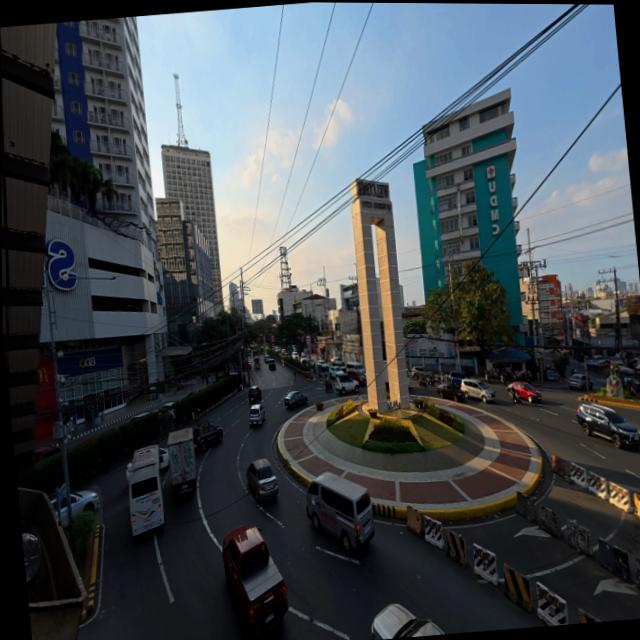Jeepneys: (253, 355, 259, 368)
bus: (127, 446, 163, 535)
car: (576, 403, 639, 448), (371, 604, 442, 639), (245, 458, 278, 501), (460, 378, 495, 404), (193, 420, 222, 451), (70, 491, 99, 516), (508, 382, 541, 403), (334, 374, 358, 395), (436, 382, 462, 401), (33, 445, 59, 462), (567, 373, 592, 390), (284, 391, 306, 408), (248, 404, 264, 426), (347, 371, 366, 386), (449, 370, 467, 385), (159, 402, 174, 419), (247, 386, 261, 404), (127, 411, 148, 423), (328, 366, 345, 379), (158, 447, 168, 469), (330, 359, 345, 371), (317, 360, 328, 372), (593, 355, 605, 364), (268, 358, 275, 370), (291, 351, 299, 361), (300, 352, 306, 362), (280, 348, 287, 356), (300, 358, 307, 365), (264, 355, 269, 364), (275, 347, 280, 353)
motorcycle: (499, 370, 515, 385), (508, 389, 520, 404), (485, 370, 498, 383), (324, 379, 331, 392), (571, 369, 577, 374)
trucks: (222, 526, 287, 635), (166, 428, 196, 493)
vans: (306, 472, 374, 550), (345, 362, 365, 376)
